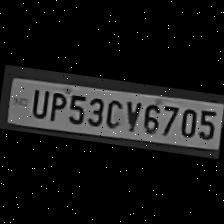0: (176, 104, 200, 139)
3: (84, 93, 106, 128)
5: (64, 90, 89, 126), (194, 106, 218, 142)
6: (139, 98, 164, 134)
7: (158, 102, 179, 136)
C: (102, 95, 124, 129)
P: (45, 88, 68, 124)
U: (27, 85, 50, 120)
V: (119, 96, 143, 132)
